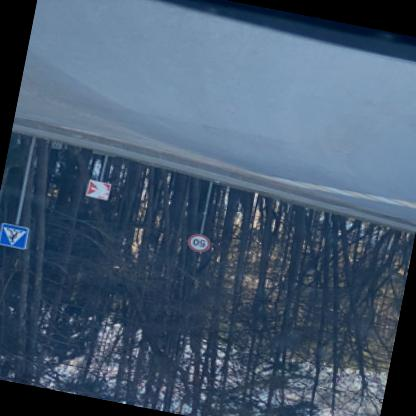crosswalk: (1, 224, 32, 252)
speedlimit: (189, 236, 213, 255)
